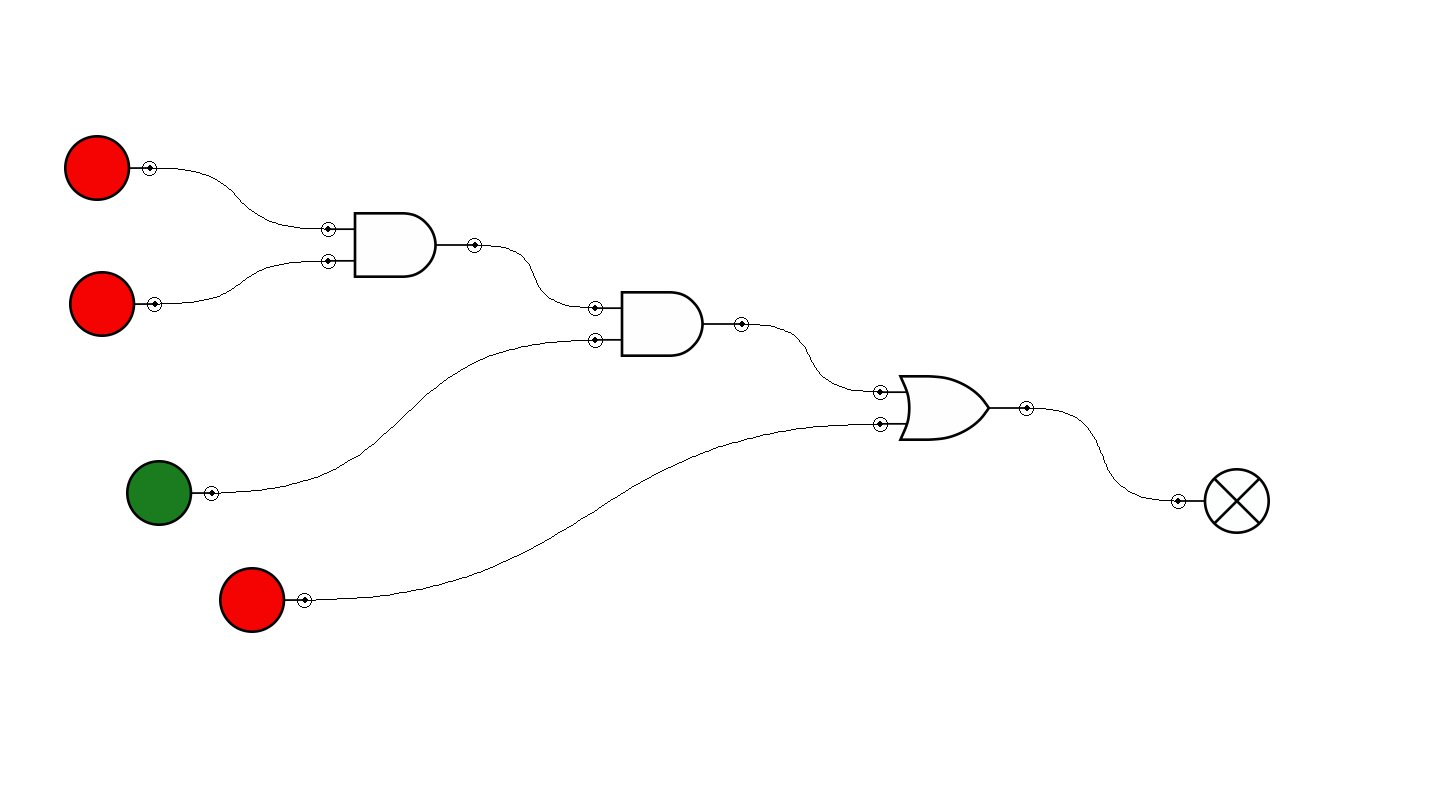and: (321, 212, 482, 278), (588, 291, 749, 357)
bulb: (1171, 468, 1270, 534)
or: (873, 375, 1034, 441)
switch_False: (219, 567, 312, 633), (69, 271, 162, 337), (64, 135, 157, 201)
switch_True: (126, 460, 219, 526)
